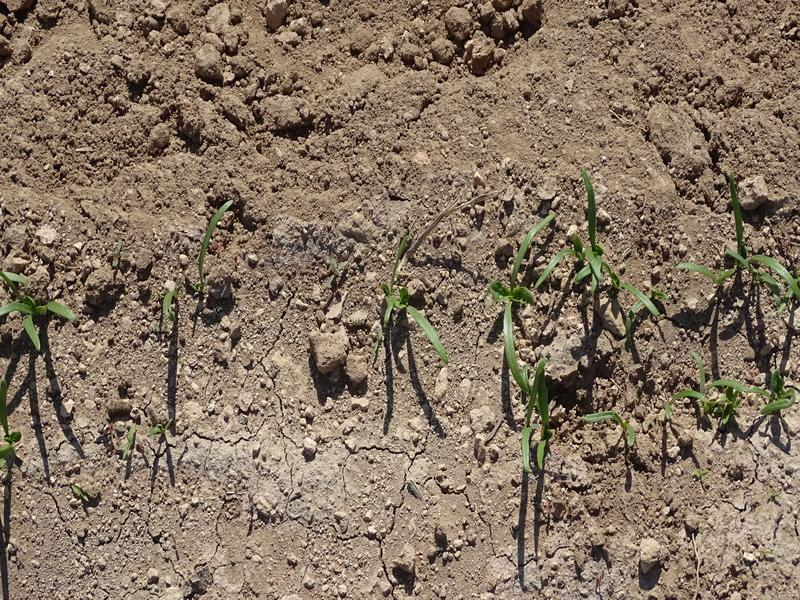Espinaca: (492, 169, 659, 363), (690, 180, 797, 309), (684, 361, 793, 423), (377, 273, 449, 362), (1, 270, 81, 350), (512, 365, 552, 471), (196, 193, 233, 286), (591, 404, 642, 446), (159, 285, 185, 323)
